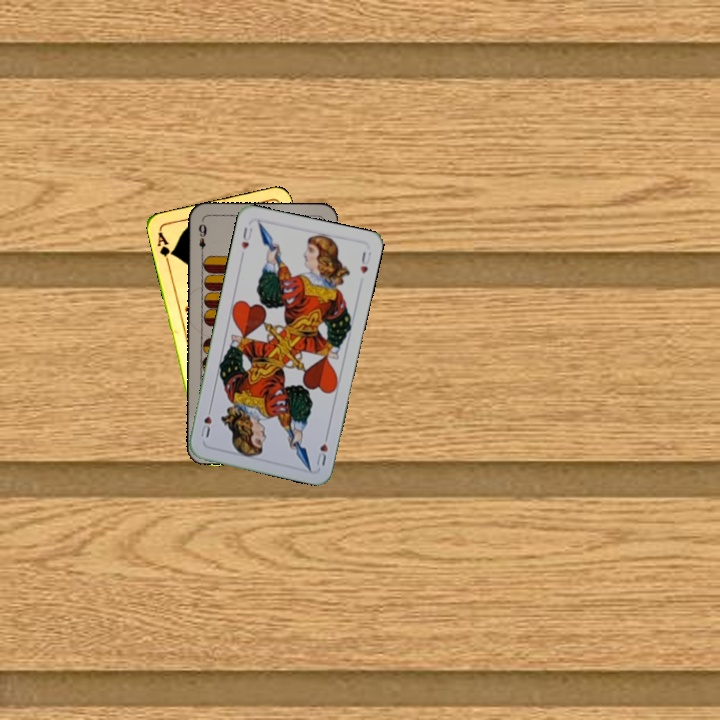E9: (195, 220, 209, 258)
GA: (153, 228, 176, 268)
HU: (312, 429, 331, 468), (237, 223, 255, 252)
